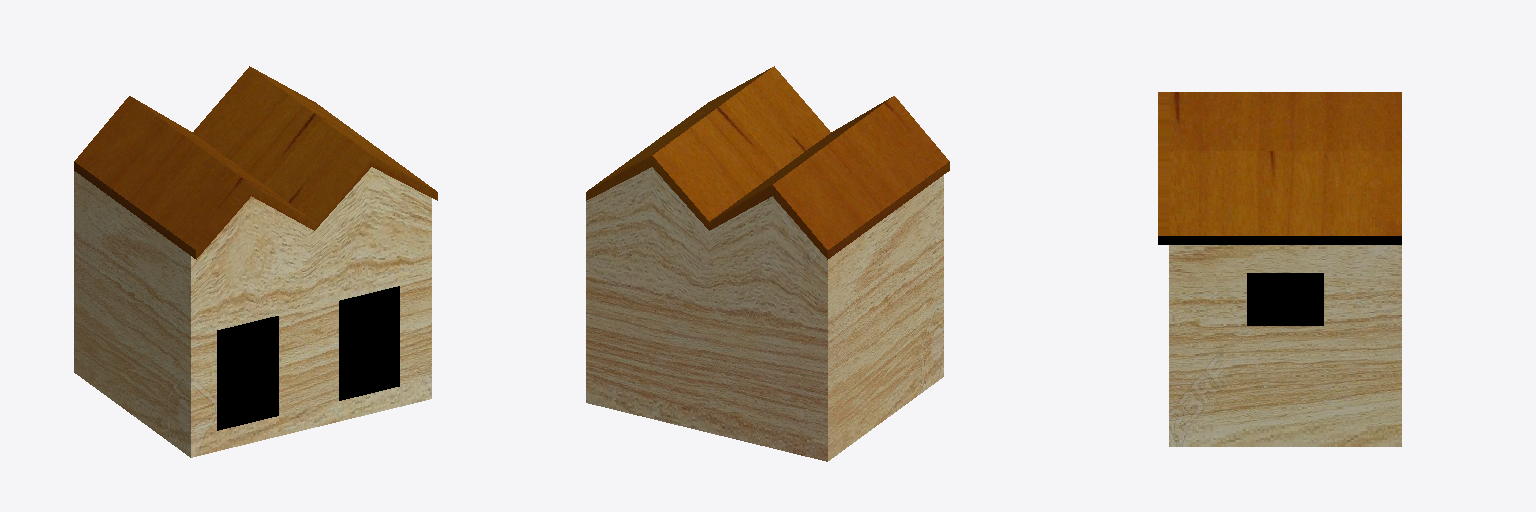
3 views of the same model, side by side, from view 1: azimuth 30°, elevation 25°; view 2: azimuth 150°, elevation 25°; view 3: azimuth 270°, elevation 25° (orthographic).
Visible parts, largest first — view 1: _Mesh; view 2: _Mesh; view 3: _Mesh.
Boxes of the visible parts, x1,y1,x2,y2 form: _Mesh: [74, 66, 437, 457]; _Mesh: [586, 66, 949, 461]; _Mesh: [1158, 92, 1401, 446].
Size of the model in its own units: 11.29 by 11.78 by 9.88.
Materials: 5 (2 with a texture image).